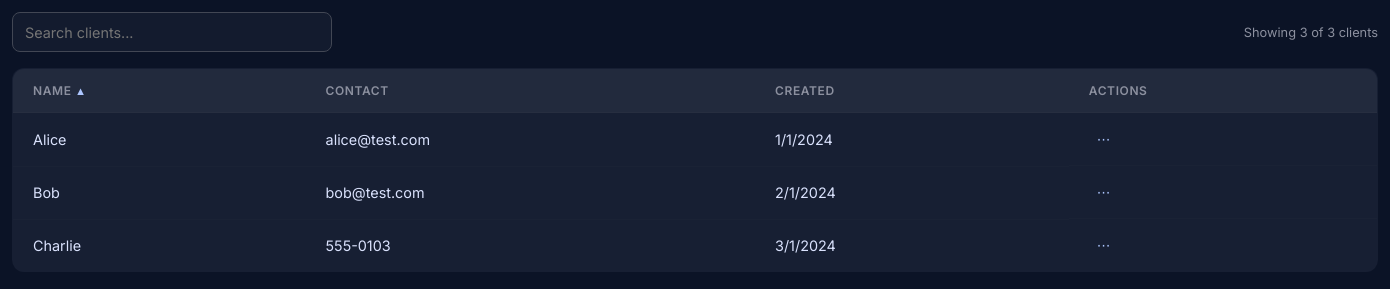
Scenario: ClientList › filters by search query
This screenshot has width=1390, height=289.
Type "alice" into the search field with placeholder "Search clients...".
click(172, 32); type("alice")  # box [12,12,332,52]
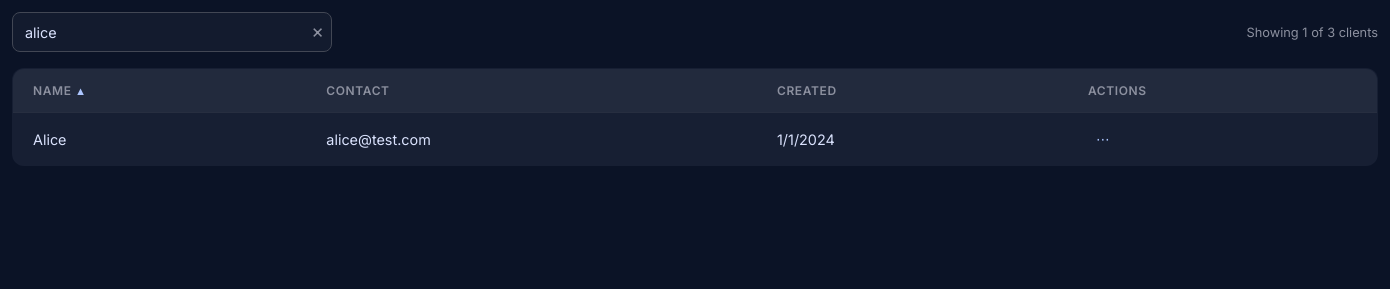
Expected: the text "Alice" is shown, [12,112,306,166]
Expected: the text "Bob" is gone
